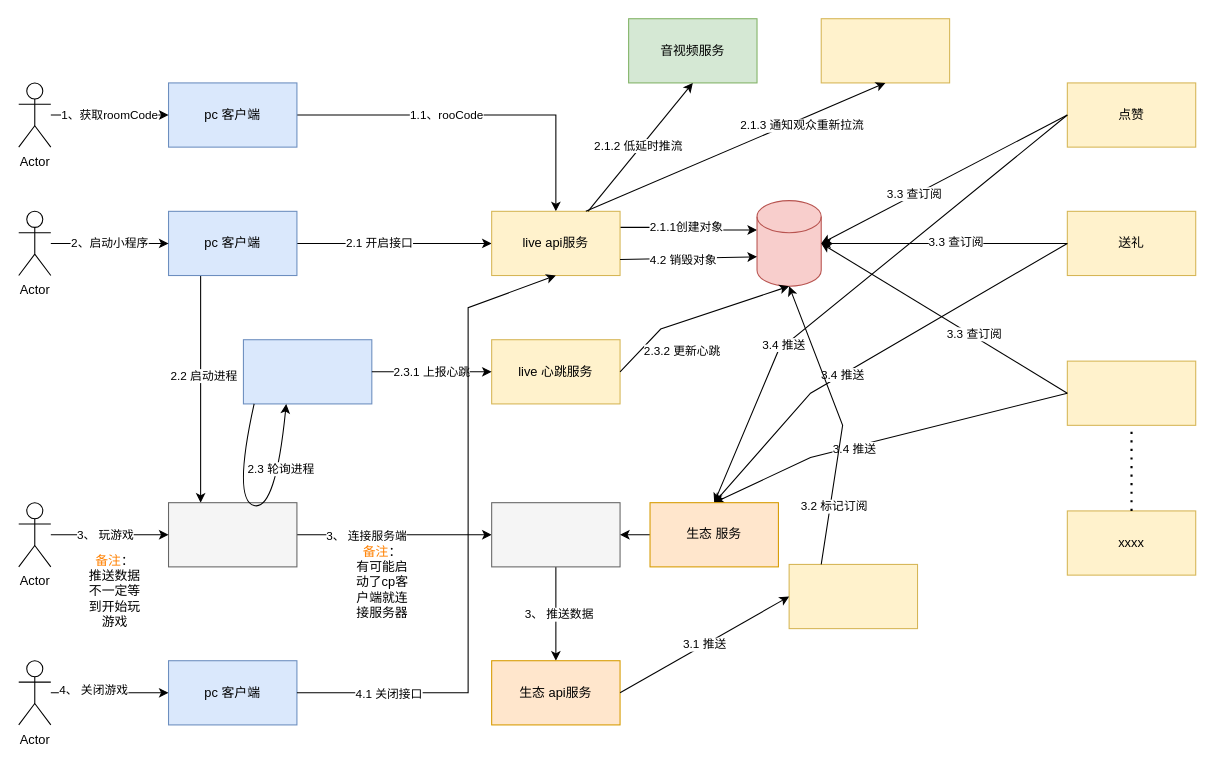
The diagram is 1214 pixels wide and 766 high, and some of its shapes have lost their labels. The box of each missing label's shape, as (x1, y1, x2, y2) in pixels:
cp 客户端: (167, 502, 297, 567)
cp 服务端: (491, 502, 620, 567)
live rpc服务: (788, 563, 918, 629)
live 长连接: (820, 18, 950, 83)
pc 心跳任务: (242, 339, 372, 404)
redis: (756, 200, 821, 286)
评论: (1066, 360, 1196, 425)
